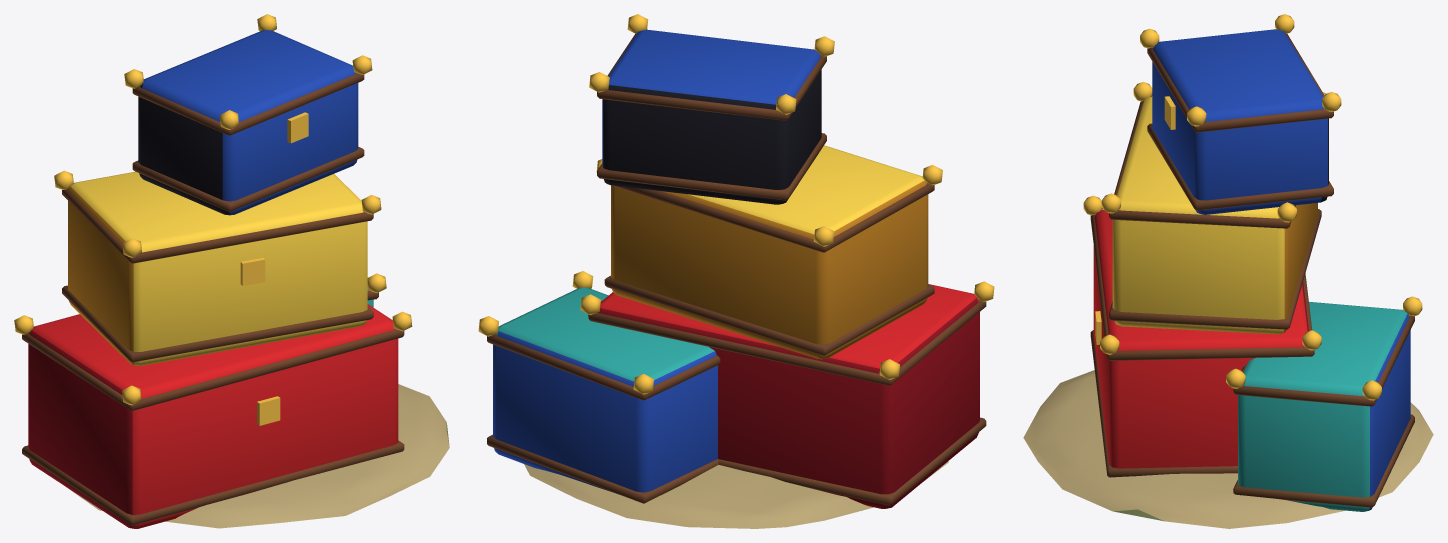
The model's file is TrunkStack.fbx.
3 renders of one model, left to right at view 1: azimuth 30°, elevation 25°; view 2: azimuth 150°, elevation 25°; view 3: azimuth 270°, elevation 25°, orthographic. The views are drawn at different scales.
Parts seen in each view (by area): view 1: TrunkStack; view 2: TrunkStack; view 3: TrunkStack.
Part boxes in pixels (bbox=[...]): TrunkStack: bbox=[14, 14, 449, 528]; TrunkStack: bbox=[478, 14, 994, 528]; TrunkStack: bbox=[1023, 14, 1433, 528].
Size of the model in its own units: 1.78 by 1.66 by 1.62.
Materials: 1 (1 with a texture image).
